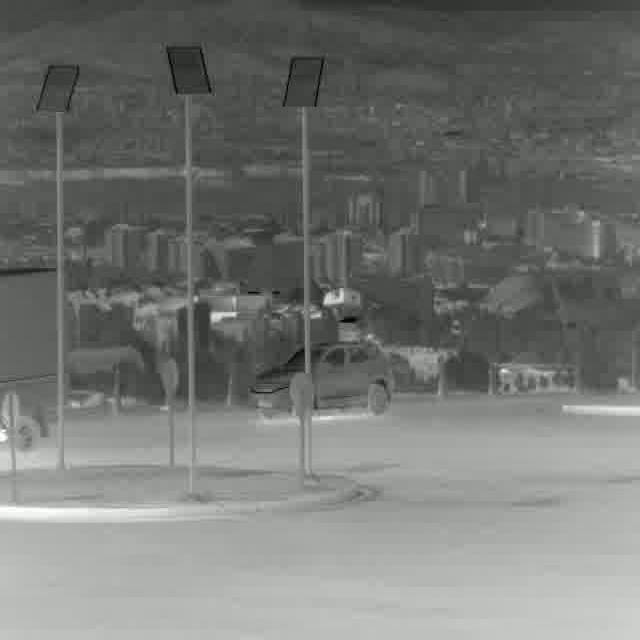Car: (0, 268, 68, 444), (250, 341, 390, 416)
